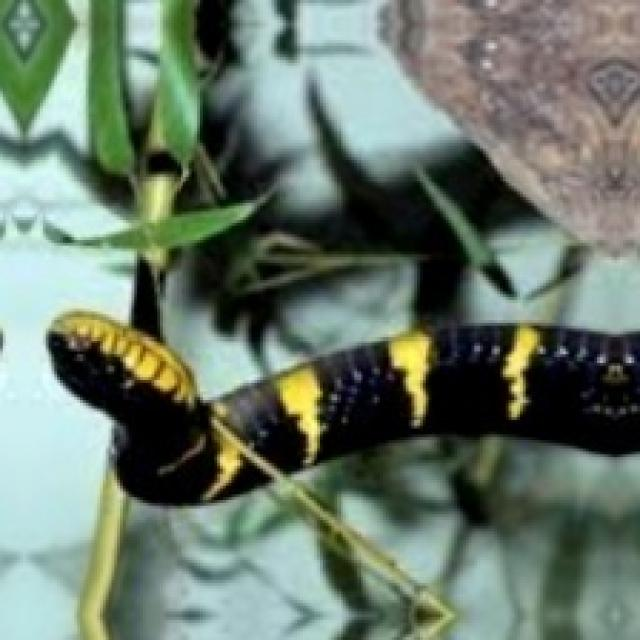mangrove cat snake: (49, 311, 637, 503)
